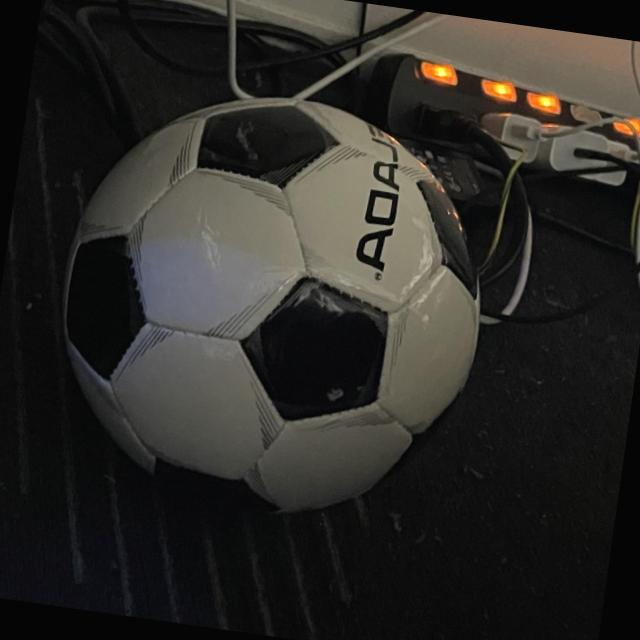Soccer Ball: (35, 72, 508, 546)
